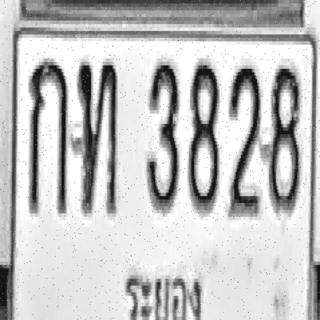A01: (29, 57, 68, 215)
A23: (77, 58, 117, 214)
N02: (228, 62, 261, 217)
N03: (146, 58, 180, 214)
N08: (266, 62, 300, 214), (188, 60, 220, 212)
P53: (118, 255, 205, 320)
